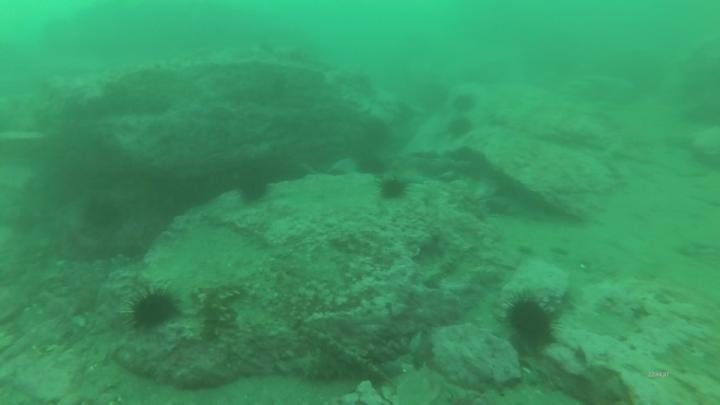echinus: (503, 292, 562, 354), (124, 281, 183, 337), (81, 193, 126, 231), (233, 169, 274, 206), (379, 176, 410, 202), (356, 155, 390, 176), (448, 115, 474, 142), (453, 93, 478, 115)
holothurian: (297, 352, 362, 383), (200, 284, 247, 326), (420, 251, 460, 286)
